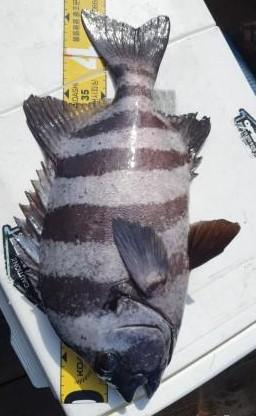fish: (7, 11, 240, 407)
